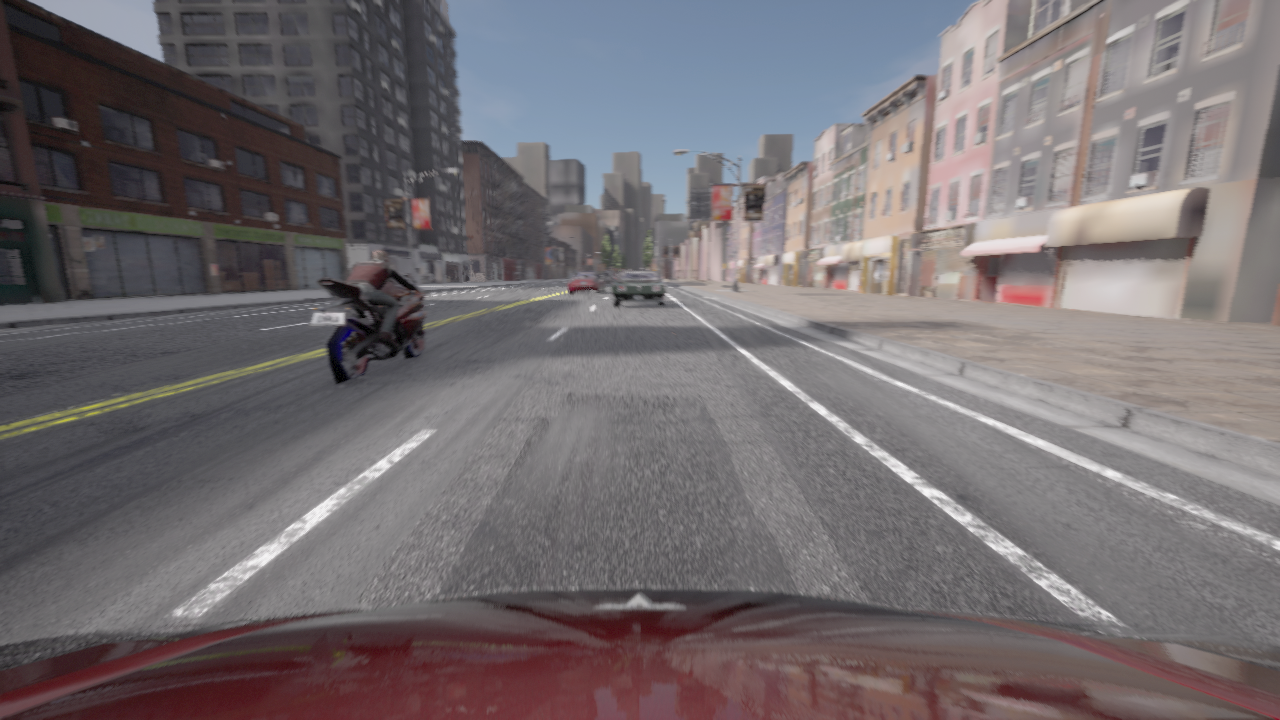cyclist: (0, 588, 1279, 719), (310, 272, 432, 384), (613, 270, 665, 306), (569, 271, 605, 293), (602, 271, 617, 282), (633, 269, 645, 270)
